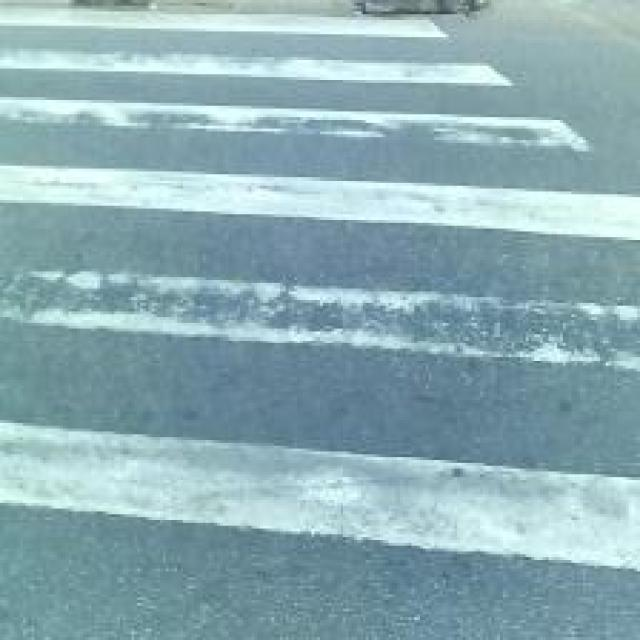crosswalk: (1, 2, 640, 585)
